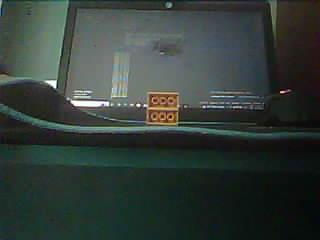lego: (146, 92, 179, 125)
